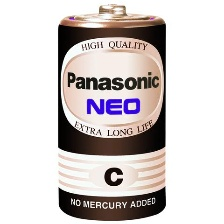battery: (53, 2, 171, 224)
